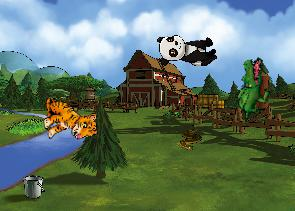crocodile: (226, 55, 277, 122)
panda: (157, 34, 217, 66)
tiger: (40, 93, 98, 143)
